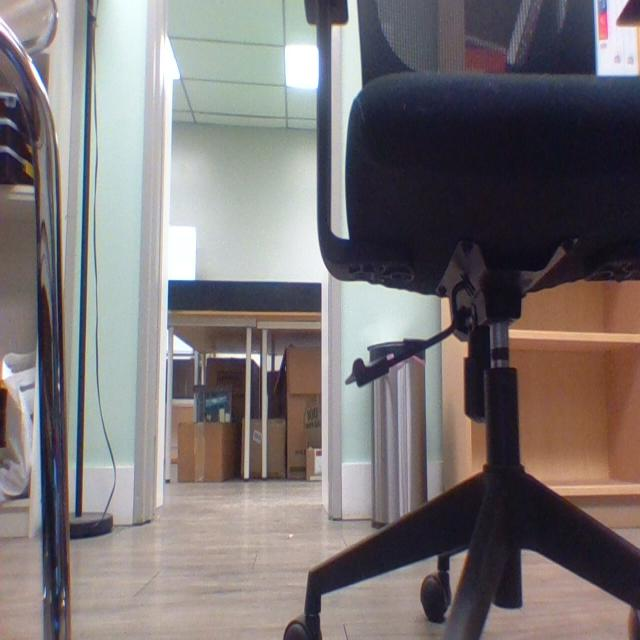black-chair: (289, 4, 639, 639)
